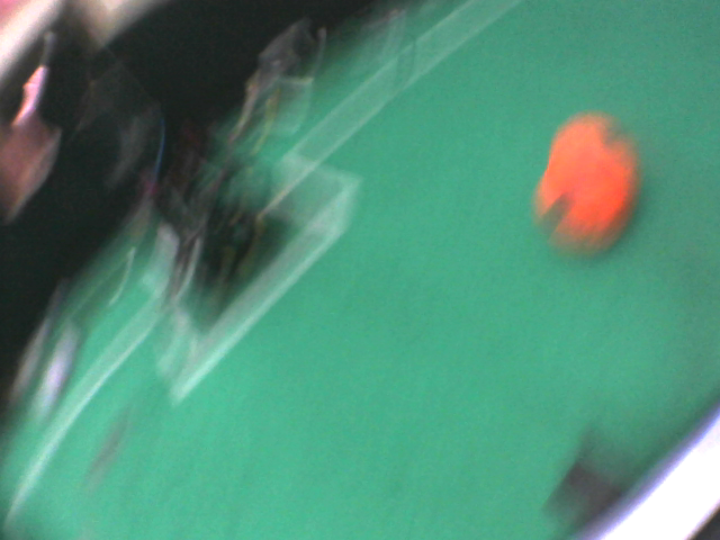bola: (533, 117, 653, 254)
